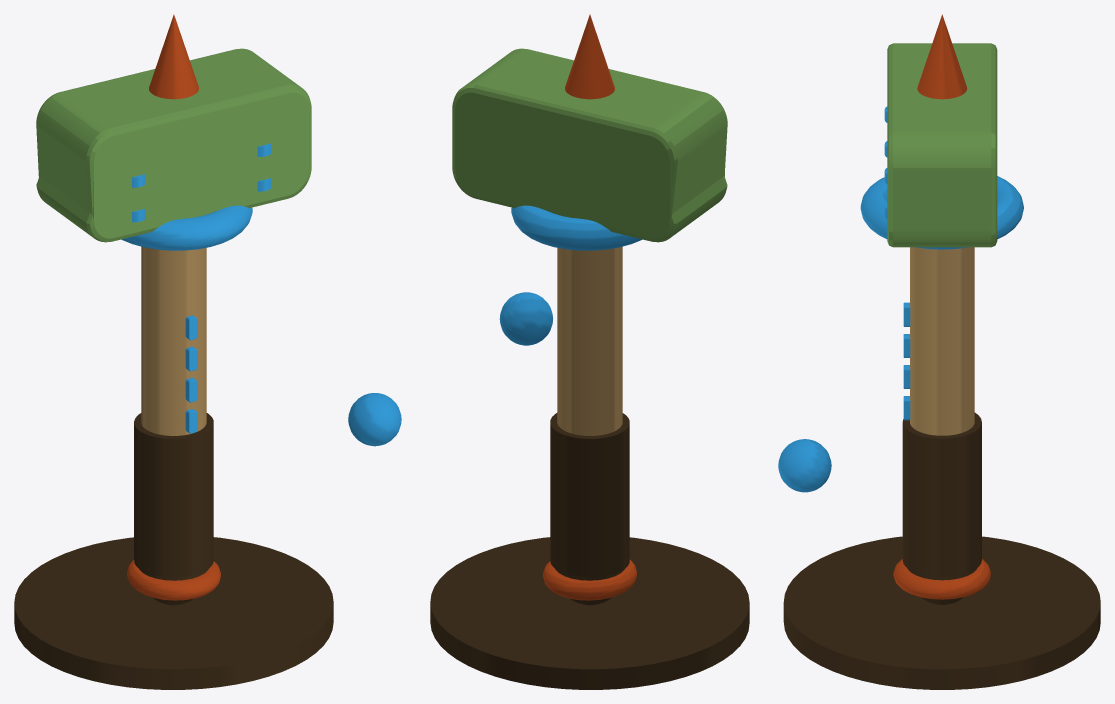
Rendered from 0602_考古图鉴_特洛伊青铜箭头.glb.
The picture shows the model from 3 angles, left to right: view 1: azimuth 30°, elevation 25°; view 2: azimuth 150°, elevation 25°; view 3: azimuth 270°, elevation 25°; orthographic projection.
Parts seen in each view (by area): view 1: card_0602; view 2: card_0602; view 3: card_0602.
Part boxes in pixels (left/top/right/bottom): card_0602: left=14, top=14, right=401, bottom=689; card_0602: left=430, top=14, right=749, bottom=689; card_0602: left=778, top=14, right=1100, bottom=689.
Bounding box in the file's own units: 0.5047 × 1 × 0.4803.
